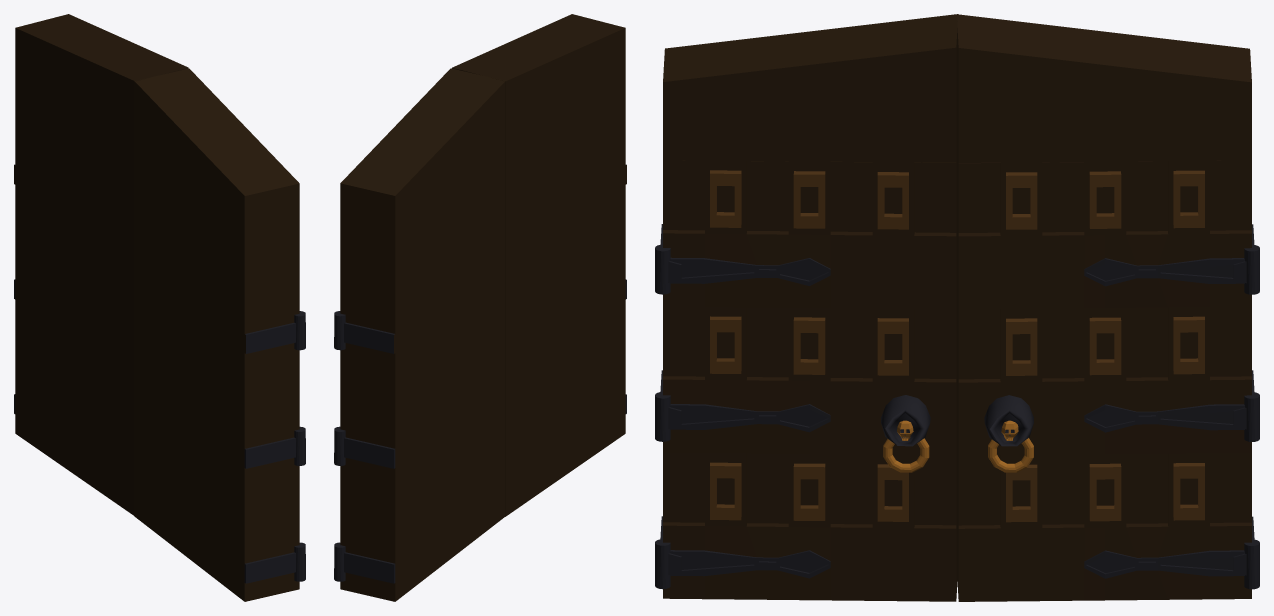
Rendered from FrontDoors.glb.
3 renders of one model, left to right at view 1: azimuth 30°, elevation 25°; view 2: azimuth 150°, elevation 25°; view 3: azimuth 270°, elevation 25°, orthographic. The views are drawn at different scales.
Visible parts, largest first — view 1: Door_Front-rigid-col, Door_Front.001-rigid-col; view 2: Door_Front.001-rigid-col, Door_Front-rigid-col; view 3: Door_Front-rigid-col, Door_Front.001-rigid-col.
Part boxes in pixels (left/top/right/bottom): Door_Front-rigid-col: left=134, top=68, right=305, bottom=601; Door_Front.001-rigid-col: left=14, top=14, right=188, bottom=515; Door_Front.001-rigid-col: left=334, top=68, right=505, bottom=601; Door_Front-rigid-col: left=452, top=14, right=626, bottom=516; Door_Front-rigid-col: left=655, top=14, right=958, bottom=601; Door_Front.001-rigid-col: left=956, top=14, right=1259, bottom=601.
Size of the model in its own units: 0.7446 by 3.84 by 3.8.
